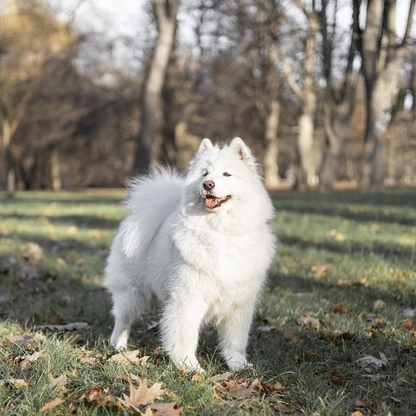samoyed: (96, 132, 290, 378)
